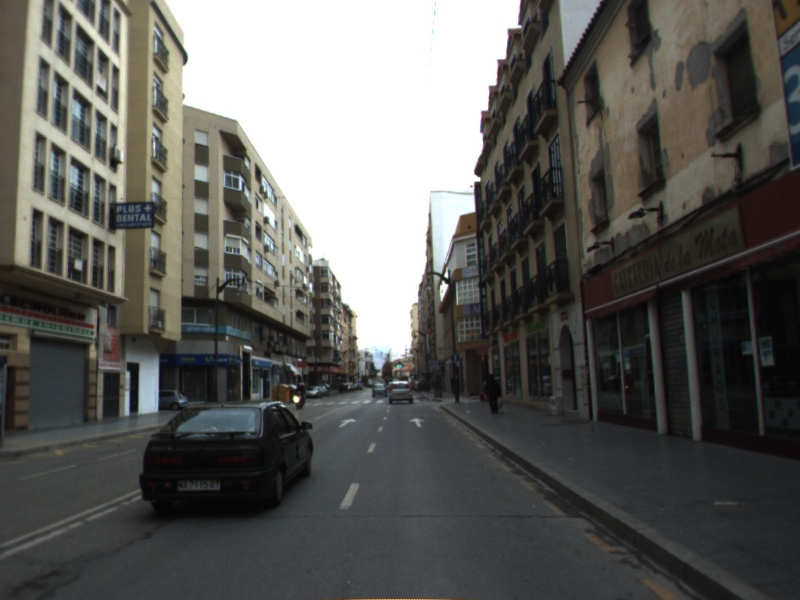STRAIGHT: (336, 416, 358, 429), (407, 416, 427, 429)
